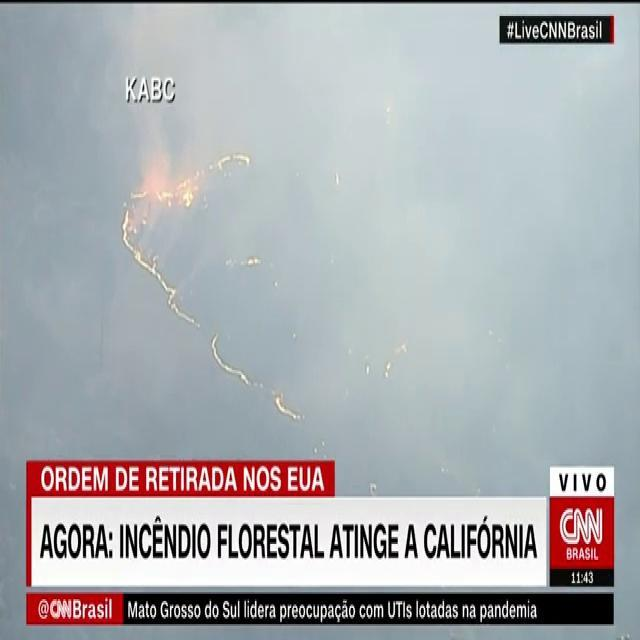Fire: (119, 214, 196, 328), (131, 148, 249, 208), (209, 328, 251, 389), (274, 393, 300, 425)
Smoke: (7, 14, 633, 423), (257, 21, 608, 425)
